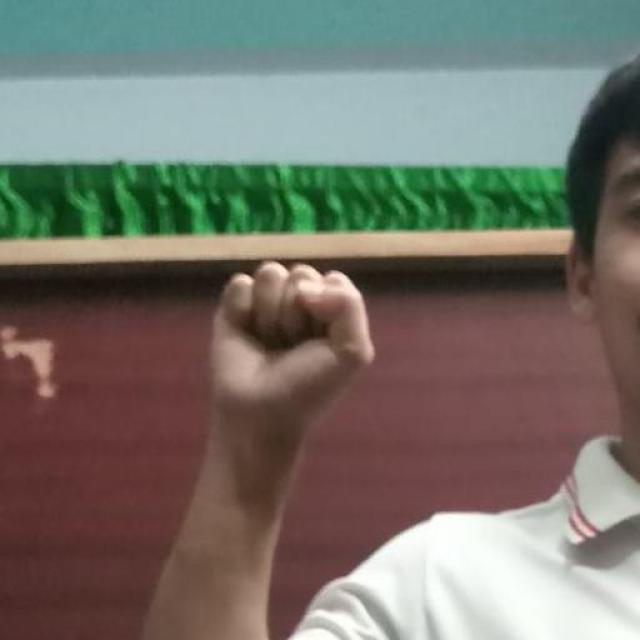hand: (200, 259, 375, 455)
